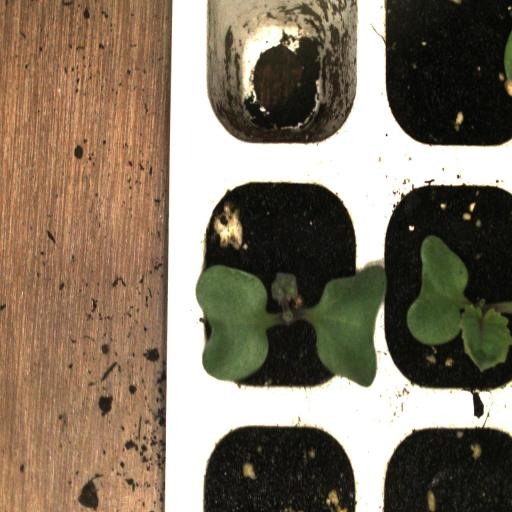Folha: (196, 264, 297, 382), (306, 267, 387, 386)
Germinacao: (193, 168, 375, 411), (375, 167, 512, 412)
